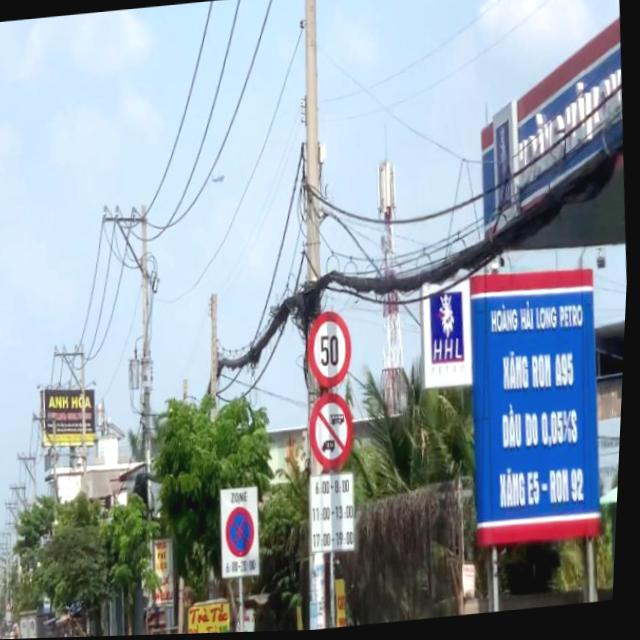Cam dung xe va do xe: (226, 504, 262, 563)
Toc do toi da cho phep: (309, 311, 361, 389)
